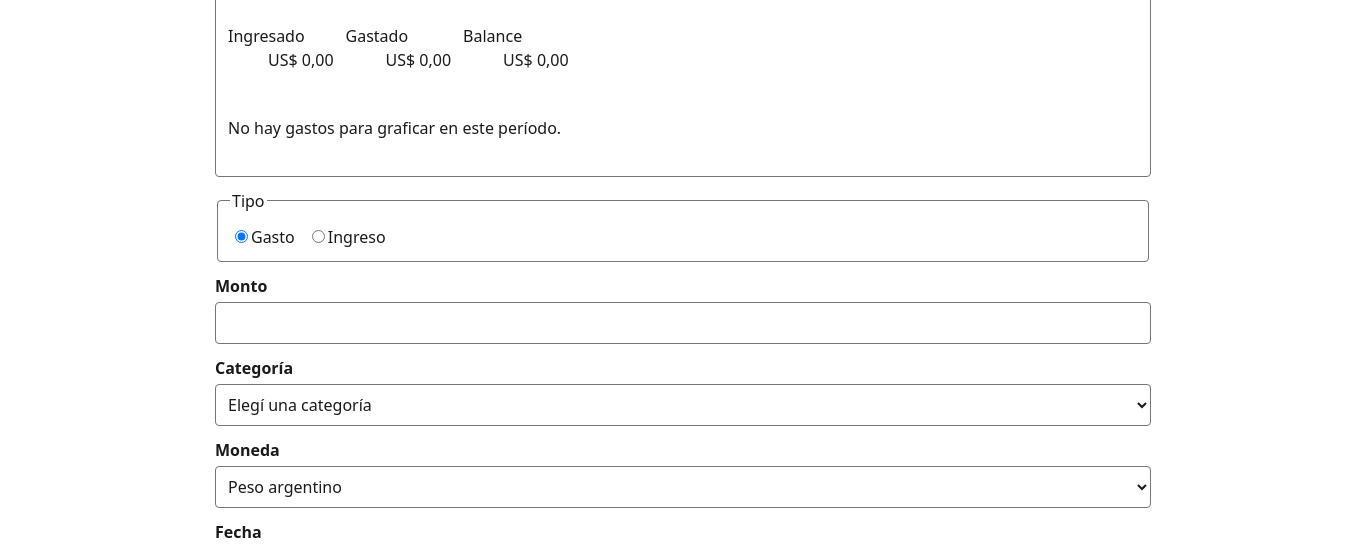
Test: PantallaMovimientos › confirma el guardado de un movimiento del mes
(page scrolled)
Type "500" into the number field labelled "Monto" at (683, 323), box [215,302,1151,344]
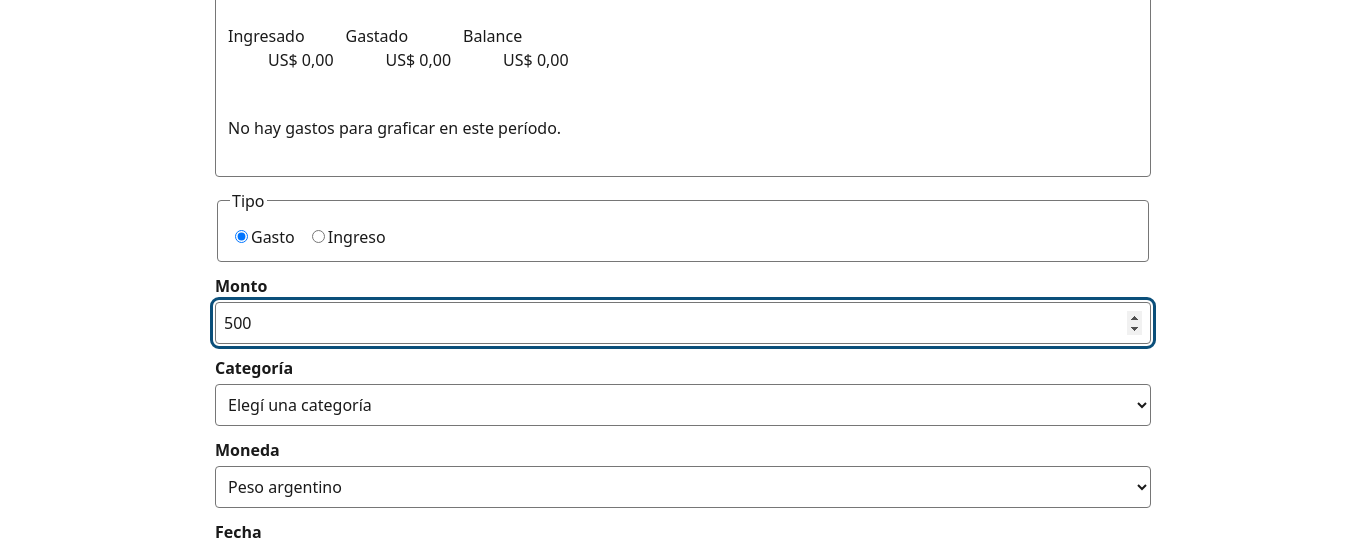
Select "Comida" in the dropdown labelled "Categoría" at (683, 405), box [215,384,1151,426]
(page scrolled)
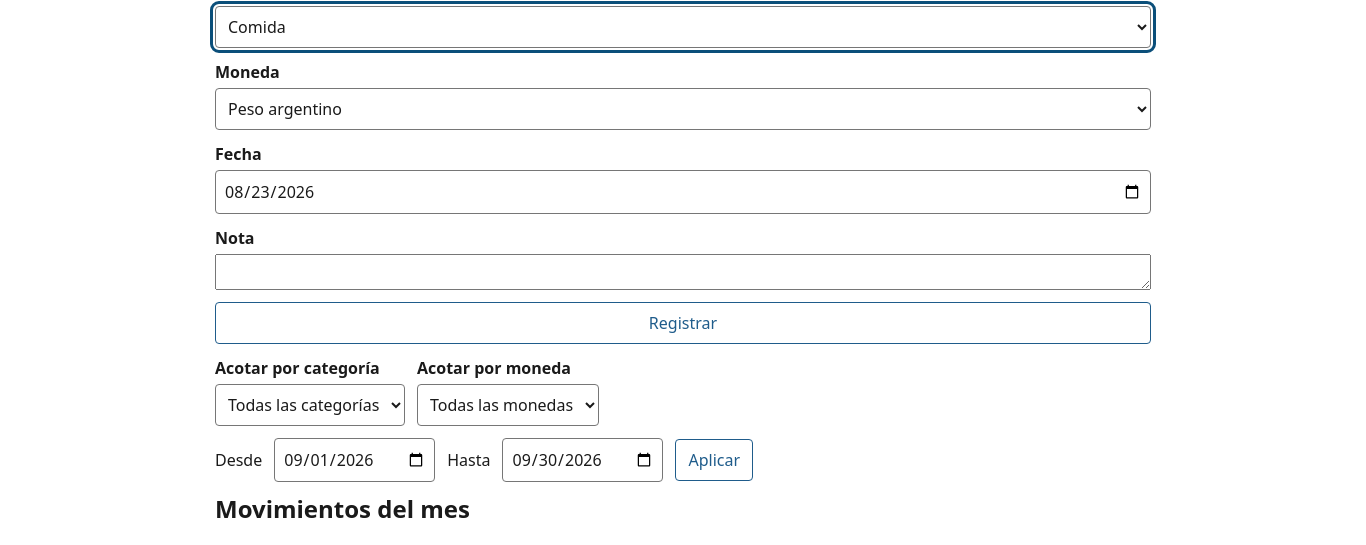
Click the button "Registrar" at (683, 323), box [215,302,1151,344]
(page scrolled)
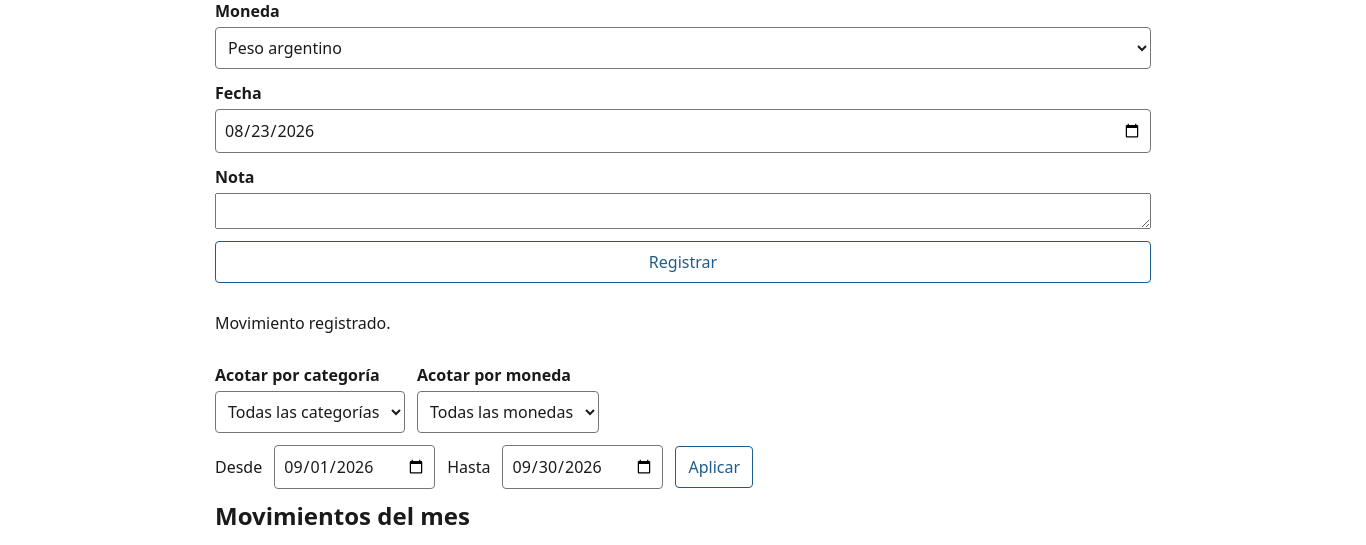
Check: the message shows "registrado", box [215,312,390,334]
